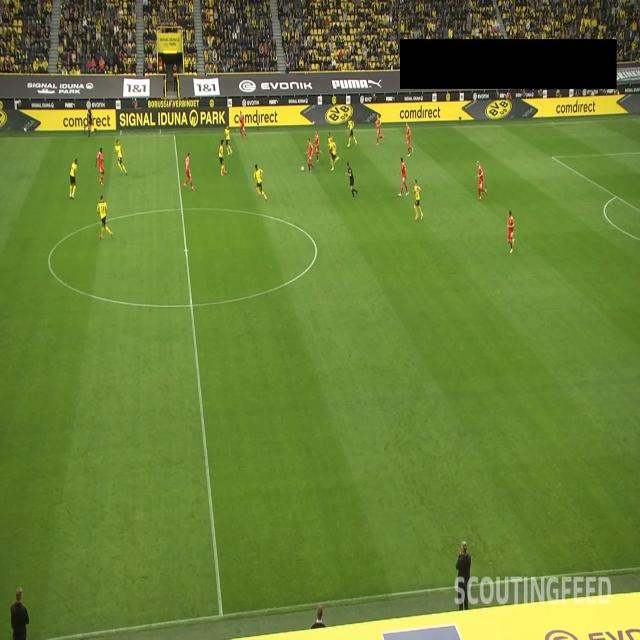ball: (301, 165, 304, 171)
